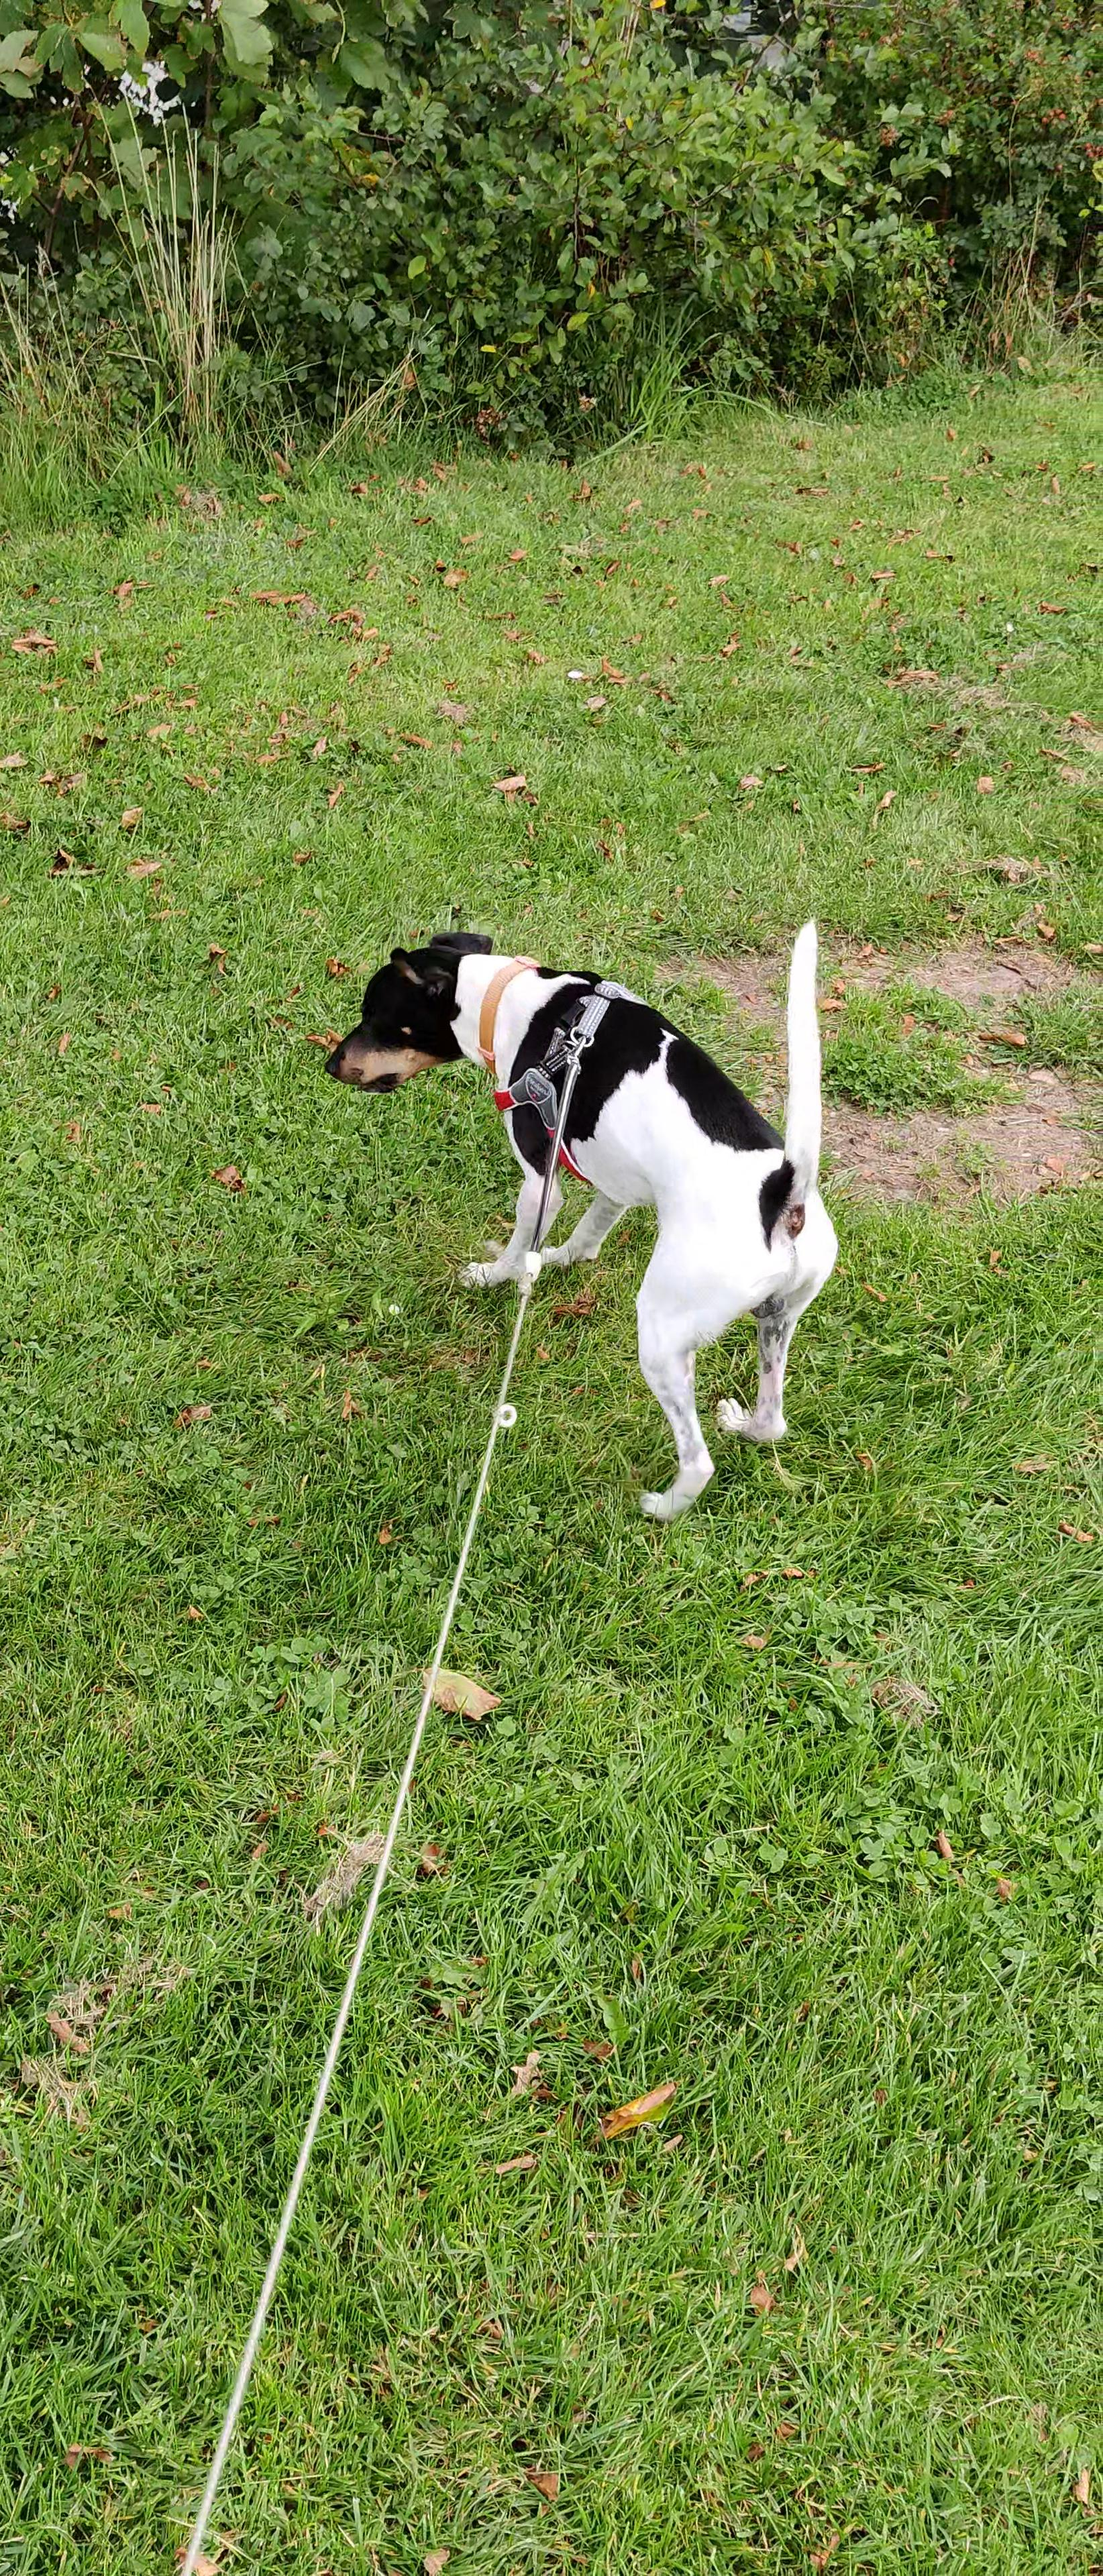Dog: (316, 899, 838, 1528)
